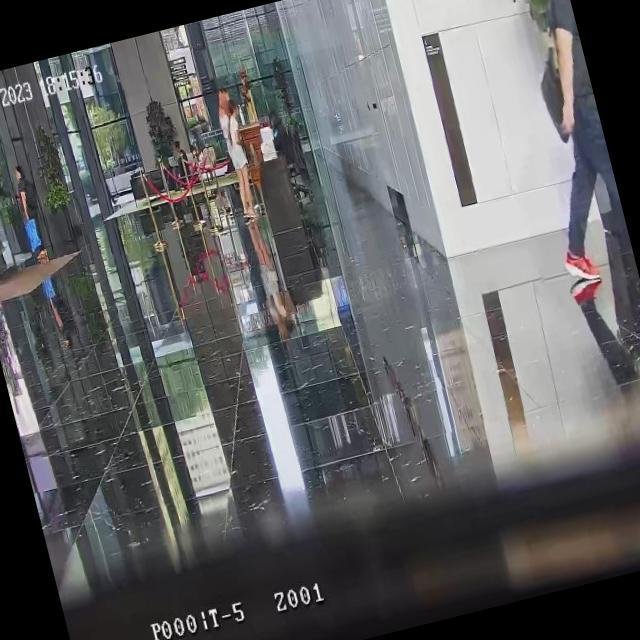person: (487, 0, 638, 288), (212, 86, 264, 222), (12, 162, 50, 263), (264, 108, 296, 174), (173, 138, 192, 174)
